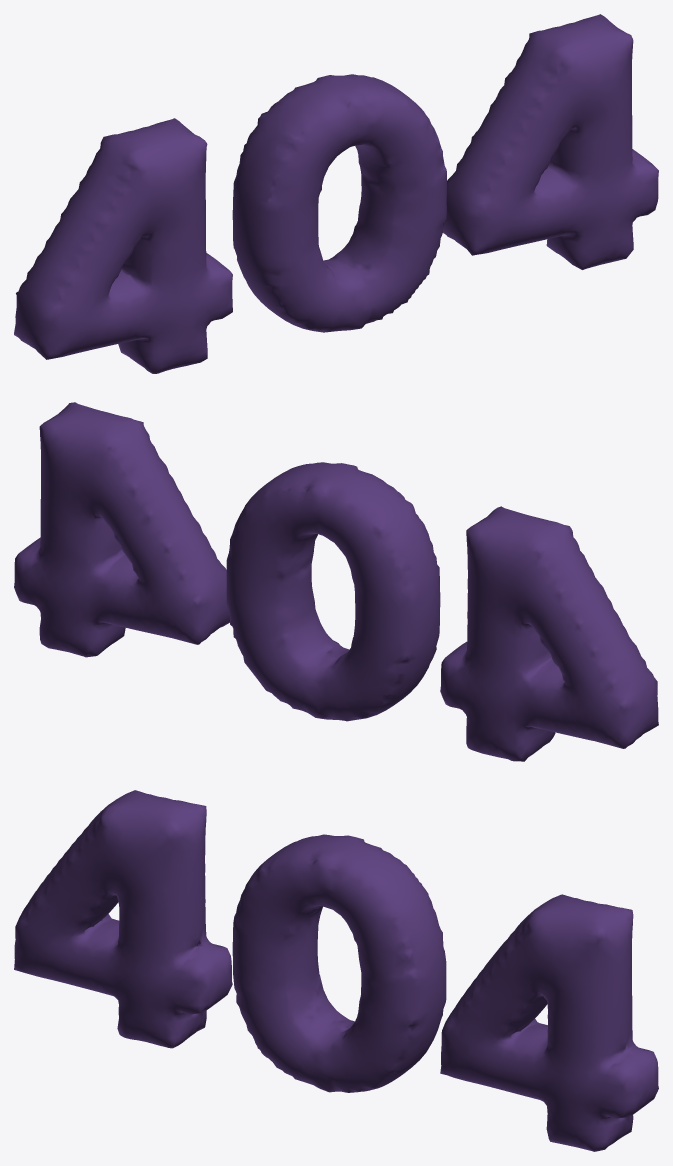
3 views of the same model, one above another, from view 1: azimuth 30°, elevation 25°; view 2: azimuth 150°, elevation 25°; view 3: azimuth 330°, elevation 25° (orthographic).
Parts seen in each view (by area): view 1: Text; view 2: Text; view 3: Text.
Boxes of the visible parts, x1,y1,x2,y2 form: Text: (14, 14, 658, 373); Text: (14, 402, 658, 761); Text: (14, 790, 658, 1151).
Bounding box in the file's own units: 1.67 × 0.613 × 0.2125.
